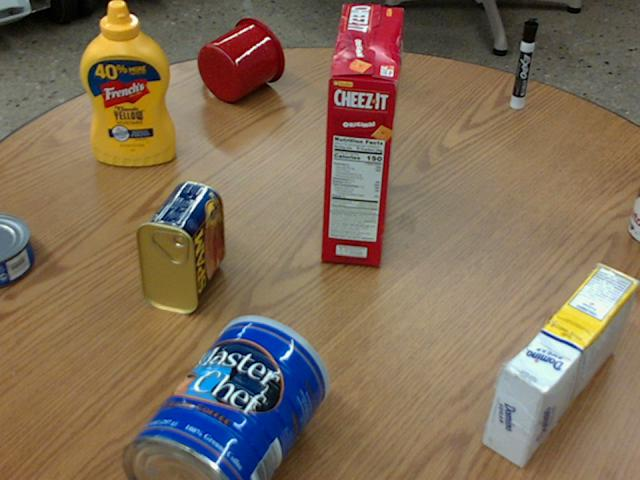cracker_box: (318, 5, 399, 265)
gelatin_box: (354, 24, 379, 102)
large_marker: (509, 19, 536, 107)
master_chef_can: (122, 315, 328, 479)
mug: (196, 16, 283, 101)
mustard_bottle: (79, 0, 173, 165)
potted_meat_can: (134, 180, 221, 313)
sugar_box: (482, 263, 636, 468)
tomato_soup_can: (625, 173, 639, 243)
tuna_fish_can: (0, 212, 33, 285)
